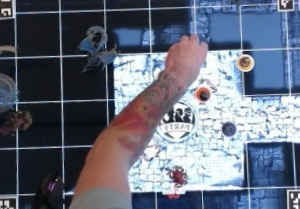orange: (195, 84, 213, 103)
violet: (219, 119, 238, 139)
yellow: (235, 50, 257, 74)
